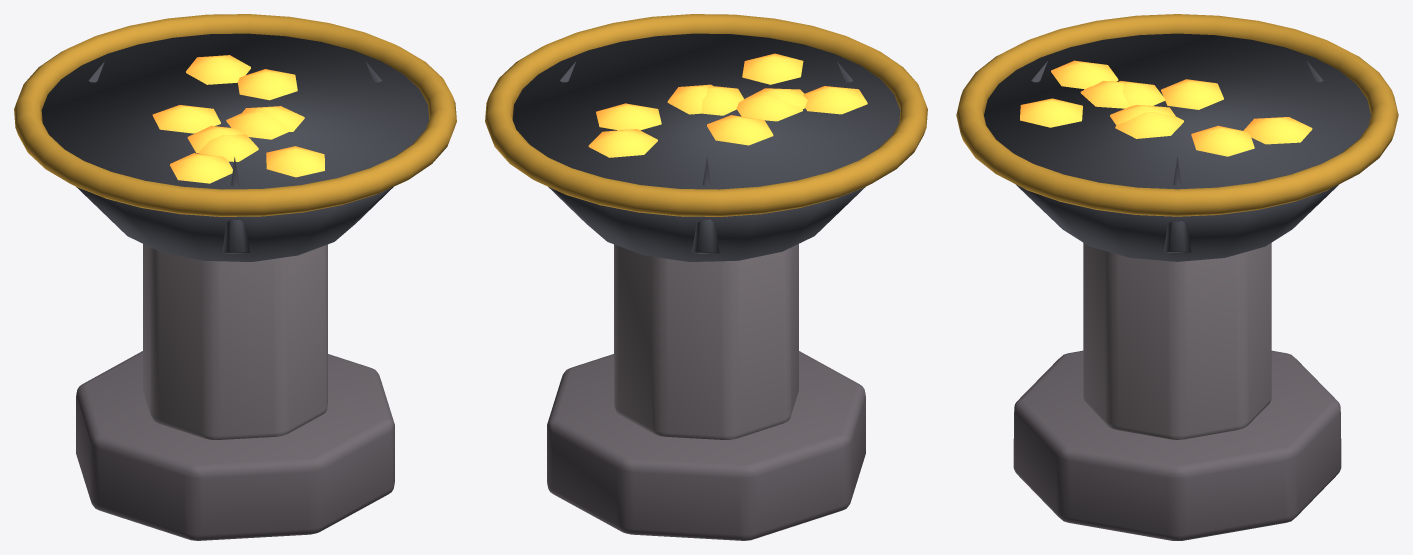
Rendered from braseiro.glb.
3 renders of one model, left to right at view 1: azimuth 30°, elevation 25°; view 2: azimuth 150°, elevation 25°; view 3: azimuth 270°, elevation 25°, orthographic.
Parts seen in each view (by area): view 1: braseiro; view 2: braseiro; view 3: braseiro.
Boxes of the visible parts, x1,y1,x2,y2 form: braseiro: (14, 14, 456, 540); braseiro: (485, 14, 927, 540); braseiro: (956, 14, 1398, 540).
Bounding box in the file's own units: 1.28 × 1.22 × 1.28.
